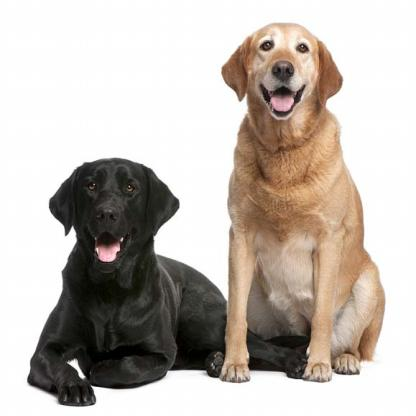Labarador Retriever: (29, 160, 307, 404), (216, 19, 388, 381)
